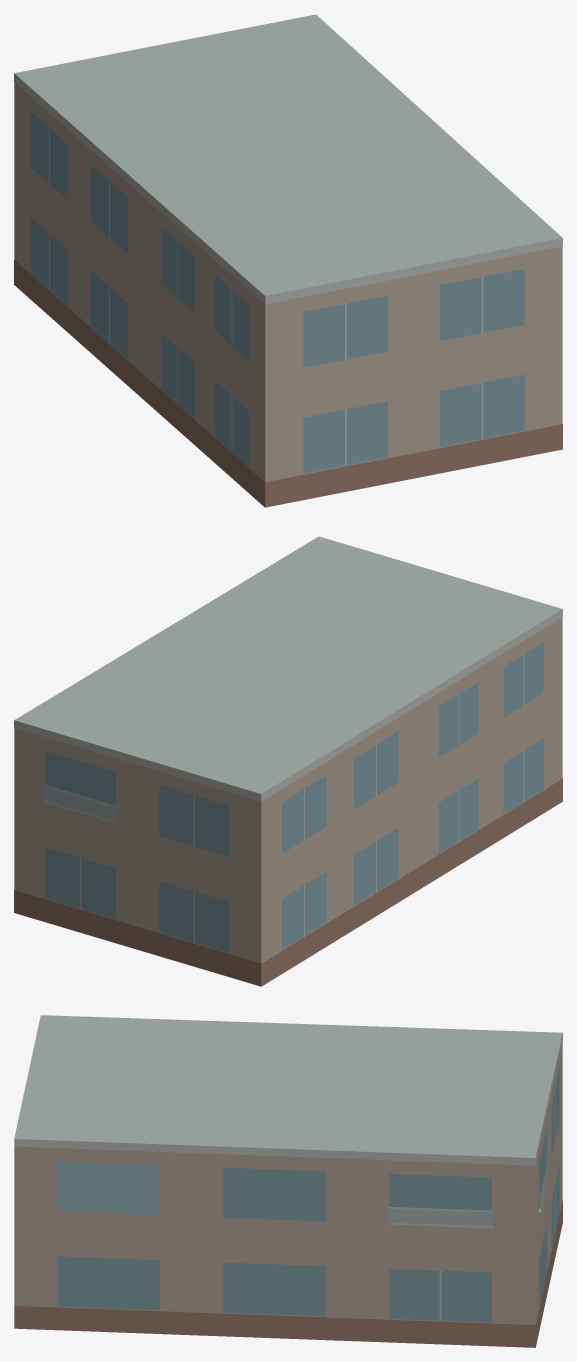
File: survey-upis-32870549.glb
3 renders of one model, top to bottom at view 1: azimuth 30°, elevation 25°; view 2: azimuth 150°, elevation 25°; view 3: azimuth 270°, elevation 25°, orthographic. The views are drawn at different scales.
Visible parts, largest first — view 1: survey-upis-32870549.tmp; view 2: survey-upis-32870549.tmp; view 3: survey-upis-32870549.tmp.
Part boxes in pixels (x1,y1,x2,y2): survey-upis-32870549.tmp: (14, 14, 562, 507); survey-upis-32870549.tmp: (14, 536, 562, 986); survey-upis-32870549.tmp: (14, 1015, 562, 1347).
Size of the model in its own units: 9.87 by 6.1 by 16.
